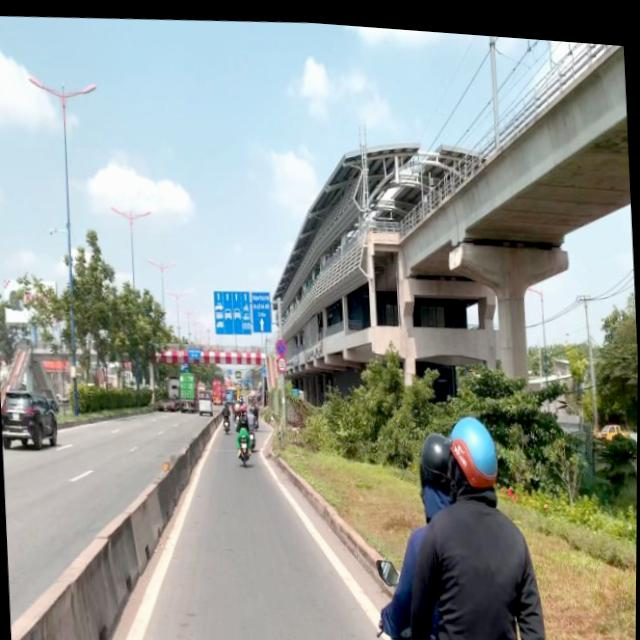Cam dung xe va do xe: (276, 333, 288, 353)
Toc do toi da cho phep: (277, 354, 288, 368)
